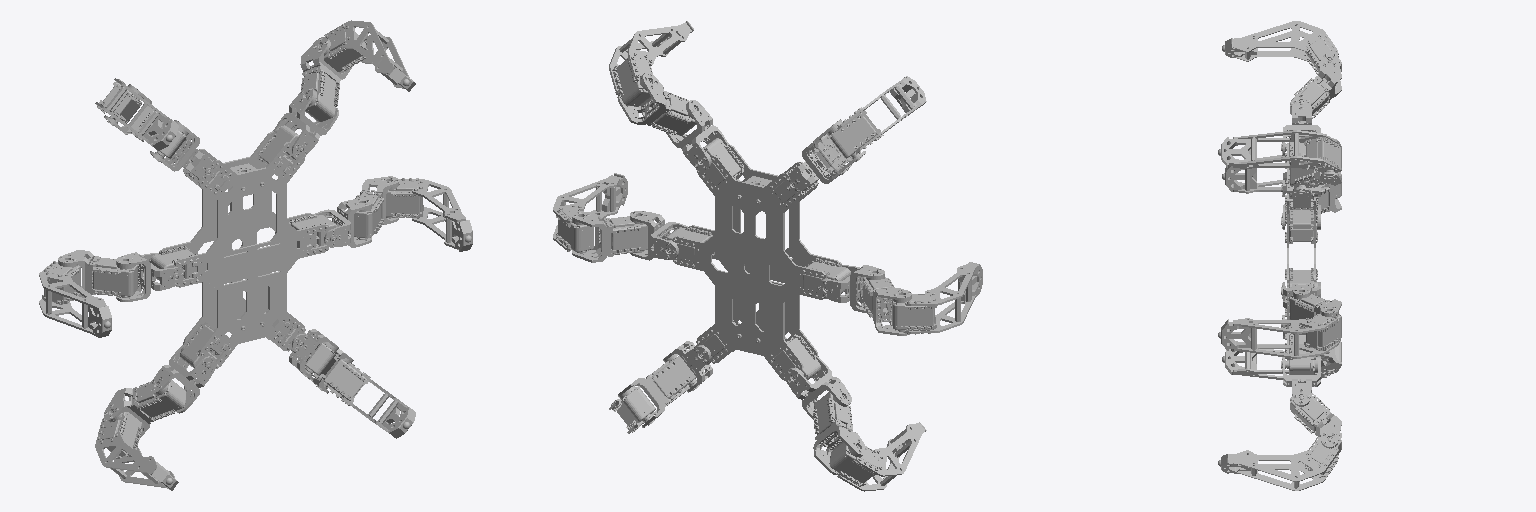
--- Render facts (derived) ---
Views: 3 orthographic renders of the robot side by side, from view 1: azimuth 30°, elevation 25°; view 2: azimuth 150°, elevation 25°; view 3: azimuth 270°, elevation 25°.
Robot: ASSY_phantom_urdf — 19 links, 18 joints (18 revolute); root link torso; default pose: every joint at zero.
Visible links, largest first — view 1: torso, LM_foot, LF_foot, RB_foot, RM_foot, LB_foot, RB_calf, RF_foot, RM_calf, LF_calf, RB_thigh, LF_thigh (+7 smaller); view 2: torso, RM_foot, LF_foot, RB_foot, LM_foot, RF_foot, LM_calf, LF_calf, RB_calf, LB_calf, LF_thigh, RB_thigh (+7 smaller); view 3: LM_foot, LF_foot, LB_foot, torso, RF_foot, RF_calf, LB_calf, RB_foot, RM_foot, LM_calf, LB_thigh, RF_thigh (+2 smaller).
Boxes of the visible links, x1,y1,x2,y2 form: torso: (150,125,337,368); LM_foot: (386,178,472,251); LF_foot: (324,20,415,91); RB_foot: (95,412,178,490); RM_foot: (39,261,111,337); LB_foot: (324,359,415,438); RB_calf: (104,380,185,437); RF_foot: (95,78,178,150); RM_calf: (58,250,137,300); LF_calf: (300,37,352,121); RB_thigh: (149,345,216,413); LF_thigh: (273,87,338,158); torso: (664,138,850,380); RM_foot: (892,262,982,334); LF_foot: (609,21,693,106); RB_foot: (830,422,926,491); LM_foot: (553,173,627,251); RF_foot: (829,76,926,158); LM_calf: (572,212,647,262); LF_calf: (617,72,696,135); RB_calf: (813,392,866,474); LB_calf: (618,355,696,427); LF_thigh: (666,100,728,170); RB_thigh: (785,357,851,419); LM_foot: (1218,314,1341,358); LF_foot: (1218,130,1341,172); LB_foot: (1218,437,1341,490); torso: (1285,137,1318,374); RF_foot: (1222,21,1341,80); RF_calf: (1290,52,1341,121); LB_calf: (1290,393,1341,448); RB_foot: (1222,341,1341,379); RM_foot: (1222,155,1341,198); LM_calf: (1290,294,1341,344); LB_thigh: (1281,356,1320,414); RF_thigh: (1281,94,1320,155).
Bounding box of the posed robot: 0.5327 × 0.1562 × 0.5003 m (x, y, z).
Meshes: 19 distinct files referenced, 19 mesh visuals loaded (19 binary STL).

The robot description file, URDF, robot "ASSY_phantom_urdf":
<?xml version="1.0" encoding="utf-8"?>
<!-- This URDF was automatically created by SolidWorks to URDF Exporter! Originally created by Stephen Brawner ([email redacted]) 
     Commit Version: 1.6.0-4-g7f85cfe  Build Version: 1.6.7995.38578
     For more information, please see http://wiki.ros.org/sw_urdf_exporter -->
<robot
  name="ASSY_phantom_urdf">
  <link
    name="torso">
    <inertial>
      <origin
        xyz="0 0 0"
        rpy="0 0 0" />
      <mass
        value="0.73121" />
      <inertia
        ixx="0.0016575"
        ixy="2.7575E-16"
        ixz="-2.6251E-08"
        iyy="0.0022272"
        iyz="-1.4666E-10"
        izz="0.00063419" />
    </inertial>
    <visual>
      <origin
        xyz="0 0 0"
        rpy="0 0 0" />
      <geometry>
        <mesh
          filename="package://ASSY_phantom_urdf/meshes/torso.STL" />
      </geometry>
      <material
        name="">
        <color
          rgba="0.75294 0.75294 0.75294 1" />
      </material>
    </visual>
    <collision>
      <origin
        xyz="0 0 0"
        rpy="0 0 0" />
      <geometry>
        <mesh
          filename="package://ASSY_phantom_urdf/meshes/torso.STL" />
      </geometry>
    </collision>
  </link>
  <link
    name="LF_thigh">
    <inertial>
      <origin
        xyz="-0.0189187135333139 0.000478712531283565 -0.0260043189660493"
        rpy="0 0 0" />
      <mass
        value="0.0376750978794187" />
      <inertia
        ixx="1.0382676450319E-05"
        ixy="-4.82870833005025E-12"
        ixz="2.19742306492425E-10"
        iyy="1.03826762029704E-05"
        iyz="2.07177635226539E-10"
        izz="1.33200924059604E-05" />
    </inertial>
    <visual>
      <origin
        xyz="0 0 0"
        rpy="0 0 0" />
      <geometry>
        <mesh
          filename="package://ASSY_phantom_urdf/meshes/LF_thigh.STL" />
      </geometry>
      <material
        name="">
        <color
          rgba="0.752941176470588 0.752941176470588 0.752941176470588 1" />
      </material>
    </visual>
    <collision>
      <origin
        xyz="0 0 0"
        rpy="0 0 0" />
      <geometry>
        <mesh
          filename="package://ASSY_phantom_urdf/meshes/LF_thigh.STL" />
      </geometry>
    </collision>
  </link>
  <joint
    name="LF1"
    type="revolute">
    <origin
      xyz="0.06091 0 0.12191"
      rpy="2.3562 0 -1.5708" />
    <parent
      link="torso" />
    <child
      link="LF_thigh" />
    <axis
      xyz="1 0 0" />
    <limit
      lower="-2.62"
      upper="2.62"
      effort="1.5"
      velocity="0" />
  </joint>
  <link
    name="LF_calf">
    <inertial>
      <origin
        xyz="0.00118838114257201 -0.0257707005151322 -0.000595468071498656"
        rpy="0 0 0" />
      <mass
        value="0.0806793259499741" />
      <inertia
        ixx="2.3728135432093E-05"
        ixy="6.91387857203295E-07"
        ixz="-1.86884977607436E-09"
        iyy="1.767780563337E-05"
        iyz="-2.42613365109201E-07"
        izz="1.65430649290008E-05" />
    </inertial>
    <visual>
      <origin
        xyz="0 0 0"
        rpy="0 0 0" />
      <geometry>
        <mesh
          filename="package://ASSY_phantom_urdf/meshes/LF_calf.STL" />
      </geometry>
      <material
        name="">
        <color
          rgba="0.752941176470588 0.752941176470588 0.752941176470588 1" />
      </material>
    </visual>
    <collision>
      <origin
        xyz="0 0 0"
        rpy="0 0 0" />
      <geometry>
        <mesh
          filename="package://ASSY_phantom_urdf/meshes/LF_calf.STL" />
      </geometry>
    </collision>
  </link>
  <joint
    name="LF2"
    type="revolute">
    <origin
      xyz="-0.01844 0 -0.052"
      rpy="1.5708 0.7854 0" />
    <parent
      link="LF_thigh" />
    <child
      link="LF_calf" />
    <axis
      xyz="0 0 1" />
    <limit
      lower="-2.62"
      upper="2.62"
      effort="1.5"
      velocity="0" />

  </joint>
  <link
    name="LF_foot">
    <inertial>
      <origin
        xyz="0.0260368144864791 -0.040459778839153 -0.000363415150998886"
        rpy="0 0 0" />
      <mass
        value="0.103482656813031" />
      <inertia
        ixx="2.77294582675777E-05"
        ixy="1.34850249812195E-05"
        ixz="-1.89513292990375E-09"
        iyy="3.65156461628875E-05"
        iyz="-2.42568251679861E-07"
        izz="4.94335793743486E-05" />
    </inertial>
    <visual>
      <origin
        xyz="0 0 0"
        rpy="0 0 0" />
      <geometry>
        <mesh
          filename="package://ASSY_phantom_urdf/meshes/LF_foot.STL" />
      </geometry>
      <material
        name="">
        <color
          rgba="0.752941176470588 0.752941176470588 0.752941176470588 1" />
      </material>
    </visual>
    <collision>
      <origin
        xyz="0 0 0"
        rpy="0 0 0" />
      <geometry>
        <mesh
          filename="package://ASSY_phantom_urdf/meshes/LF_foot.STL" />
      </geometry>
    </collision>
  </link>
  <joint
    name="LF3"
    type="revolute">
    <origin
      xyz="0.014589 -0.06443 0"
      rpy="0 0 1.3658" />
    <parent
      link="LF_calf" />
    <child
      link="LF_foot" />
    <axis
      xyz="0 0 1" />
    <limit
      lower="-2.62"
      upper="2.62"
      effort="1.5"
      velocity="0" />

  </joint>
  <link
    name="LM_thigh">
    <inertial>
      <origin
        xyz="-0.0189187144776559 0.000478714468876692 -0.0260043724674276"
        rpy="0 0 0" />
      <mass
        value="0.0376751009203242" />
      <inertia
        ixx="1.03826695315805E-05"
        ixy="-4.98915057940462E-12"
        ixz="2.12172123273922E-10"
        iyy="1.03826695315805E-05"
        iyz="2.12171092886595E-10"
        izz="1.33200927078181E-05" />
    </inertial>
    <visual>
      <origin
        xyz="0 0 0"
        rpy="0 0 0" />
      <geometry>
        <mesh
          filename="package://ASSY_phantom_urdf/meshes/LM_thigh.STL" />
      </geometry>
      <material
        name="">
        <color
          rgba="0.752941176470588 0.752941176470588 0.752941176470588 1" />
      </material>
    </visual>
    <collision>
      <origin
        xyz="0 0 0"
        rpy="0 0 0" />
      <geometry>
        <mesh
          filename="package://ASSY_phantom_urdf/meshes/LM_thigh.STL" />
      </geometry>
    </collision>
  </link>
  <joint
    name="LM1"
    type="revolute">
    <origin
      xyz="0.1035 0 0"
      rpy="1.5708 0 -1.5708" />
    <parent
      link="torso" />
    <child
      link="LM_thigh" />
    <axis
      xyz="1 0 0" />
    <limit
      lower="-2.62"
      upper="2.62"
      effort="1.5"
      velocity="0" />

  </joint>
  <link
    name="LM_calf">
    <inertial>
      <origin
        xyz="0.00118838484900423 -0.0257707055627347 -0.000595469226839227"
        rpy="0 0 0" />
      <mass
        value="0.0806793241220326" />
      <inertia
        ixx="2.3728141096192E-05"
        ixy="6.91392590582623E-07"
        ixz="-1.869977571747E-09"
        iyy="1.76778095623174E-05"
        iyz="-2.42612120369138E-07"
        izz="1.65430747191068E-05" />
    </inertial>
    <visual>
      <origin
        xyz="0 0 0"
        rpy="0 0 0" />
      <geometry>
        <mesh
          filename="package://ASSY_phantom_urdf/meshes/LM_calf.STL" />
      </geometry>
      <material
        name="">
        <color
          rgba="0.752941176470588 0.752941176470588 0.752941176470588 1" />
      </material>
    </visual>
    <collision>
      <origin
        xyz="0 0 0"
        rpy="0 0 0" />
      <geometry>
        <mesh
          filename="package://ASSY_phantom_urdf/meshes/LM_calf.STL" />
      </geometry>
    </collision>
  </link>
  <joint
    name="LM2"
    type="revolute">
    <origin
      xyz="-0.01844 0 -0.052"
      rpy="1.5708 0.7854 0" />
    <parent
      link="LM_thigh" />
    <child
      link="LM_calf" />
    <axis
      xyz="0 0 1" />
    <limit
      lower="-2.62"
      upper="2.62"
      effort="1.5"
      velocity="0" />


  </joint>
  <link
    name="LM_foot">
    <inertial>
      <origin
        xyz="0.0260368291642085 -0.0404597875260156 -0.000363415268275501"
        rpy="0 0 0" />
      <mass
        value="0.103482638943844" />
      <inertia
        ixx="2.7729457807986E-05"
        ixy="1.34850249887826E-05"
        ixz="-1.89511305525402E-09"
        iyy="3.65156462713776E-05"
        iyz="-2.42568236083735E-07"
        izz="4.9433579108479E-05" />
    </inertial>
    <visual>
      <origin
        xyz="0 0 0"
        rpy="0 0 0" />
      <geometry>
        <mesh
          filename="package://ASSY_phantom_urdf/meshes/LM_foot.STL" />
      </geometry>
      <material
        name="">
        <color
          rgba="0.752941176470588 0.752941176470588 0.752941176470588 1" />
      </material>
    </visual>
    <collision>
      <origin
        xyz="0 0 0"
        rpy="0 0 0" />
      <geometry>
        <mesh
          filename="package://ASSY_phantom_urdf/meshes/LM_foot.STL" />
      </geometry>
    </collision>
  </link>
  <joint
    name="LM3"
    type="revolute">
    <origin
      xyz="0.014589 -0.06443 0"
      rpy="0 0 1.3658" />
    <parent
      link="LM_calf" />
    <child
      link="LM_foot" />
    <axis
      xyz="0 0 1" />
    <limit
      lower="-2.62"
      upper="2.62"
      effort="1.5"
      velocity="0" />


  </joint>
  <link
    name="LB_thigh">
    <inertial>
      <origin
        xyz="-0.0189187135333139 0.00047871253128369 -0.0260043189660493"
        rpy="0 0 0" />
      <mass
        value="0.0376750978794186" />
      <inertia
        ixx="1.0382676450319E-05"
        ixy="-4.82870833147012E-12"
        ixz="2.19742306490418E-10"
        iyy="1.03826762029704E-05"
        iyz="2.07177635226115E-10"
        izz="1.33200924059604E-05" />
    </inertial>
    <visual>
      <origin
        xyz="0 0 0"
        rpy="0 0 0" />
      <geometry>
        <mesh
          filename="package://ASSY_phantom_urdf/meshes/LB_thigh.STL" />
      </geometry>
      <material
        name="">
        <color
          rgba="0.752941176470588 0.752941176470588 0.752941176470588 1" />
      </material>
    </visual>
    <collision>
      <origin
        xyz="0 0 0"
        rpy="0 0 0" />
      <geometry>
        <mesh
          filename="package://ASSY_phantom_urdf/meshes/LB_thigh.STL" />
      </geometry>
    </collision>
  </link>
  <joint
    name="LB1"
    type="revolute">
    <origin
      xyz="0.06091 0 -0.12191"
      rpy="0.7854 0 -1.5708" />
    <parent
      link="torso" />
    <child
      link="LB_thigh" />
    <axis
      xyz="1 0 0" />
    <limit
      lower="-2.62"
      upper="2.62"
      effort="1.5"
      velocity="0" />


  </joint>
  <link
    name="LB_calf">
    <inertial>
      <origin
        xyz="0.00118838114257189 -0.0257707005151321 -0.00059546807149885"
        rpy="0 0 0" />
      <mass
        value="0.080679325949974" />
      <inertia
        ixx="2.37281354320929E-05"
        ixy="6.91387857203288E-07"
        ixz="-1.86884977607478E-09"
        iyy="1.76778056333699E-05"
        iyz="-2.4261336510919E-07"
        izz="1.65430649290007E-05" />
    </inertial>
    <visual>
      <origin
        xyz="0 0 0"
        rpy="0 0 0" />
      <geometry>
        <mesh
          filename="package://ASSY_phantom_urdf/meshes/LB_calf.STL" />
      </geometry>
      <material
        name="">
        <color
          rgba="0.752941176470588 0.752941176470588 0.752941176470588 1" />
      </material>
    </visual>
    <collision>
      <origin
        xyz="0 0 0"
        rpy="0 0 0" />
      <geometry>
        <mesh
          filename="package://ASSY_phantom_urdf/meshes/LB_calf.STL" />
      </geometry>
    </collision>
  </link>
  <joint
    name="LB2"
    type="revolute">
    <origin
      xyz="-0.01844 0 -0.052"
      rpy="1.5708 0.7854 0" />
    <parent
      link="LB_thigh" />
    <child
      link="LB_calf" />
    <axis
      xyz="0 0 1" />
    <limit
      lower="-2.62"
      upper="2.62"
      effort="1.5"
      velocity="0" />


  </joint>
  <link
    name="LB_foot">
    <inertial>
      <origin
        xyz="0.0260368144864792 -0.0404597788391529 -0.000363415150998886"
        rpy="0 0 0" />
      <mass
        value="0.103482656813031" />
      <inertia
        ixx="2.77294582675776E-05"
        ixy="1.34850249812195E-05"
        ixz="-1.89513292987579E-09"
        iyy="3.65156461628875E-05"
        iyz="-2.42568251679898E-07"
        izz="4.94335793743485E-05" />
    </inertial>
    <visual>
      <origin
        xyz="0 0 0"
        rpy="0 0 0" />
      <geometry>
        <mesh
          filename="package://ASSY_phantom_urdf/meshes/LB_foot.STL" />
      </geometry>
      <material
        name="">
        <color
          rgba="0.752941176470588 0.752941176470588 0.752941176470588 1" />
      </material>
    </visual>
    <collision>
      <origin
        xyz="0 0 0"
        rpy="0 0 0" />
      <geometry>
        <mesh
          filename="package://ASSY_phantom_urdf/meshes/LB_foot.STL" />
      </geometry>
    </collision>
  </link>
  <joint
    name="LB3"
    type="revolute">
    <origin
      xyz="0.014589 -0.06443 0"
      rpy="0 0 1.3658" />
    <parent
      link="LB_calf" />
    <child
      link="LB_foot" />
    <axis
      xyz="0 0 1" />
    <limit
      lower="-2.62"
      upper="2.62"
      effort="1.5"
      velocity="0" />


  </joint>
  <link
    name="RF_thigh">
    <inertial>
      <origin
        xyz="-0.0189188020479903 0.000478800845980093 0.0260043353596264"
        rpy="0 0 0" />
      <mass
        value="0.0376758208259914" />
      <inertia
        ixx="1.03828764673456E-05"
        ixy="-3.25408417106138E-11"
        ixz="-3.46294905024973E-10"
        iyy="1.03828761205044E-05"
        iyz="-3.38463493359526E-10"
        izz="1.33203665739127E-05" />
    </inertial>
    <visual>
      <origin
        xyz="0 0 0"
        rpy="0 0 0" />
      <geometry>
        <mesh
          filename="package://ASSY_phantom_urdf/meshes/RF_thigh.STL" />
      </geometry>
      <material
        name="">
        <color
          rgba="0.752941176470588 0.752941176470588 0.752941176470588 1" />
      </material>
    </visual>
    <collision>
      <origin
        xyz="0 0 0"
        rpy="0 0 0" />
      <geometry>
        <mesh
          filename="package://ASSY_phantom_urdf/meshes/RF_thigh.STL" />
      </geometry>
    </collision>
  </link>
  <joint
    name="RF1"
    type="revolute">
    <origin
      xyz="-0.06091 0 0.12191"
      rpy="0.7854 0 -1.5708" />
    <parent
      link="torso" />
    <child
      link="RF_thigh" />
    <axis
      xyz="1 0 0" />
    <limit
      lower="-2.62"
      upper="2.62"
      effort="1.5"
      velocity="0" />


  </joint>
  <link
    name="RF_calf">
    <inertial>
      <origin
        xyz="0.00118839448735411 -0.0257708306895506 0.000595485131191148"
        rpy="0 0 0" />
      <mass
        value="0.0806797008140726" />
      <inertia
        ixx="2.37283128266096E-05"
        ixy="6.91404529752462E-07"
        ixz="1.80297348274294E-09"
        iyy="1.76779102521873E-05"
        iyz="2.42634869978194E-07"
        izz="1.65431060541753E-05" />
    </inertial>
    <visual>
      <origin
        xyz="0 0 0"
        rpy="0 0 0" />
      <geometry>
        <mesh
          filename="package://ASSY_phantom_urdf/meshes/RF_calf.STL" />
      </geometry>
      <material
        name="">
        <color
          rgba="0.752941176470588 0.752941176470588 0.752941176470588 1" />
      </material>
    </visual>
    <collision>
      <origin
        xyz="0 0 0"
        rpy="0 0 0" />
      <geometry>
        <mesh
          filename="package://ASSY_phantom_urdf/meshes/RF_calf.STL" />
      </geometry>
    </collision>
  </link>
  <joint
    name="RF2"
    type="revolute">
    <origin
      xyz="-0.01844 0 0.052"
      rpy="-1.5708 -0.7854 0" />
    <parent
      link="RF_thigh" />
    <child
      link="RF_calf" />
    <axis
      xyz="0 0 1" />
    <limit
      lower="-2.62"
      upper="2.62"
      effort="1.5"
      velocity="0" />


  </joint>
  <link
    name="RF_foot">
    <inertial>
      <origin
        xyz="0.0251523878039745 -0.0399190519547551 0.000363401002625788"
        rpy="0 0 0" />
      <mass
        value="0.10348275962247" />
      <inertia
        ixx="2.77294725192849E-05"
        ixy="1.34850252775453E-05"
        ixz="1.89623156593185E-09"
        iyy="3.65156682580468E-05"
        iyz="2.42562482314532E-07"
        izz="4.94335677074542E-05" />
    </inertial>
    <visual>
      <origin
        xyz="0 0 0"
        rpy="0 0 0" />
      <geometry>
        <mesh
          filename="package://ASSY_phantom_urdf/meshes/RF_foot.STL" />
      </geometry>
      <material
        name="">
        <color
          rgba="0.752941176470588 0.752941176470588 0.752941176470588 1" />
      </material>
    </visual>
    <collision>
      <origin
        xyz="0 0 0"
        rpy="0 0 0" />
      <geometry>
        <mesh
          filename="package://ASSY_phantom_urdf/meshes/RF_foot.STL" />
      </geometry>
    </collision>
  </link>
  <joint
    name="RF3"
    type="revolute">
    <origin
      xyz="0.014589 -0.06443 0"
      rpy="0 0 1.3658" />
    <parent
      link="RF_calf" />
    <child
      link="RF_foot" />
    <axis
      xyz="0 0 1" />
    <limit
      lower="-2.62"
      upper="2.62"
      effort="1.5"
      velocity="0" />


  </joint>
  <link
    name="RM_thigh">
    <inertial>
      <origin
        xyz="-0.0189188023390825 0.000478802347846601 0.0260043723573318"
        rpy="0 0 0" />
      <mass
        value="0.0376758228348441" />
      <inertia
        ixx="1.03828709694775E-05"
        ixy="-3.26232367538412E-11"
        ixz="-3.41920389663727E-10"
        iyy="1.03828709694775E-05"
        iyz="-3.41921417827784E-10"
        izz="1.33203669609511E-05" />
    </inertial>
    <visual>
      <origin
        xyz="0 0 0"
        rpy="0 0 0" />
      <geometry>
        <mesh
          filename="package://ASSY_phantom_urdf/meshes/RM_thigh.STL" />
      </geometry>
      <material
        name="">
        <color
          rgba="0.752941176470588 0.752941176470588 0.752941176470588 1" />
      </material>
    </visual>
    <collision>
      <origin
        xyz="0 0 0"
        rpy="0 0 0" />
      <geometry>
        <mesh
          filename="package://ASSY_phantom_urdf/meshes/RM_thigh.STL" />
      </geometry>
    </collision>
  </link>
  <joint
    name="RM1"
    type="revolute">
    <origin
      xyz="-0.1035 0 0"
      rpy="1.5708 0 -1.5708" />
    <parent
      link="torso" />
    <child
      link="RM_thigh" />
    <axis
      xyz="1 0 0" />
    <limit
      lower="-2.62"
      upper="2.62"
      effort="1.5"
      velocity="0" />


  </joint>
  <link
    name="RM_calf">
    <inertial>
      <origin
        xyz="0.001188397187932 -0.0257708336460533 0.000595485752764332"
        rpy="0 0 0" />
      <mass
        value="0.0806797009667837" />
      <inertia
        ixx="2.37283162712528E-05"
        ixy="6.91408117149425E-07"
        ixz="1.80488388072659E-09"
        iyy="1.76779140809598E-05"
        iyz="2.42632916986097E-07"
        izz="1.65431132788042E-05" />
    </inertial>
    <visual>
      <origin
        xyz="0 0 0"
        rpy="0 0 0" />
      <geometry>
        <mesh
          filename="package://ASSY_phantom_urdf/meshes/RM_calf.STL" />
      </geometry>
      <material
        name="">
        <color
          rgba="0.752941176470588 0.752941176470588 0.752941176470588 1" />
      </material>
    </visual>
    <collision>
      <origin
        xyz="0 0 0"
        rpy="0 0 0" />
      <geometry>
        <mesh
          filename="package://ASSY_phantom_urdf/meshes/RM_calf.STL" />
      </geometry>
    </collision>
  </link>
  <joint
    name="RM2"
    type="revolute">
    <origin
      xyz="-0.01844 0 0.052"
      rpy="-1.5708 -0.7854 0" />
    <parent
      link="RM_thigh" />
    <child
      link="RM_calf" />
    <axis
      xyz="0 0 1" />
    <limit
      lower="-2.62"
      upper="2.62"
      effort="1.5"
      velocity="0" />


  </joint>
  <link
    name="RM_foot">
    <inertial>
      <origin
        xyz="0.0251524010551904 -0.039919059521808 0.000363400892952541"
        rpy="0 0 0" />
      <mass
        value="0.103482743153361" />
      <inertia
        ixx="2.77294720723584E-05"
        ixy="1.34850252865789E-05"
        ixz="1.89621447560202E-09"
        iyy="3.65156684057796E-05"
        iyz="2.42562450521362E-07"
        izz="4.94335674049255E-05" />
    </inertial>
    <visual>
      <origin
        xyz="0 0 0"
        rpy="0 0 0" />
      <geometry>
        <mesh
          filename="package://ASSY_phantom_urdf/meshes/RM_foot.STL" />
      </geometry>
      <material
        name="">
        <color
          rgba="0.752941176470588 0.752941176470588 0.752941176470588 1" />
      </material>
    </visual>
    <collision>
      <origin
        xyz="0 0 0"
        rpy="0 0 0" />
      <geometry>
        <mesh
          filename="package://ASSY_phantom_urdf/meshes/RM_foot.STL" />
      </geometry>
    </collision>
  </link>
  <joint
    name="RM3"
    type="revolute">
    <origin
      xyz="0.014589 -0.06443 0"
      rpy="0 0 1.3658" />
    <parent
      link="RM_calf" />
    <child
      link="RM_foot" />
    <axis
      xyz="0 0 1" />
    <limit
      lower="-2.62"
      upper="2.62"
      effort="1.5"
      velocity="0" />


  </joint>
  <link
    name="RB_thigh">
    <inertial>
      <origin
        xyz="-0.0189188020479903 0.000478800845980204 0.0260043353596264"
        rpy="0 0 0" />
      <mass
        value="0.0376758208259914" />
      <inertia
        ixx="1.03828764673456E-05"
        ixy="-3.25408417113336E-11"
        ixz="-3.46294905019275E-10"
        iyy="1.03828761205044E-05"
        iyz="-3.38463493341739E-10"
        izz="1.33203665739127E-05" />
    </inertial>
    <visual>
      <origin
        xyz="0 0 0"
        rpy="0 0 0" />
      <geometry>
        <mesh
          filename="package://ASSY_phantom_urdf/meshes/RB_thigh.STL" />
      </geometry>
      <material
        name="">
        <color
          rgba="0.752941176470588 0.752941176470588 0.752941176470588 1" />
      </material>
    </visual>
    <collision>
      <origin
        xyz="0 0 0"
        rpy="0 0 0" />
      <geometry>
        <mesh
          filename="package://ASSY_phantom_urdf/meshes/RB_thigh.STL" />
      </geometry>
    </collision>
  </link>
  <joint
    name="RB1"
    type="revolute">
    <origin
      xyz="-0.06091 0 -0.12191"
      rpy="2.3562 0 -1.5708" />
    <parent
      link="torso" />
    <child
      link="RB_thigh" />
    <axis
      xyz="1 0 0" />
    <limit
      lower="-2.62"
      upper="2.62"
      effort="1.5"
      velocity="0" />


  </joint>
  <link
    name="RB_calf">
    <inertial>
      <origin
        xyz="0.00118839448735418 -0.0257708306895507 0.000595485131191037"
        rpy="0 0 0" />
      <mass
        value="0.0806797008140726" />
      <inertia
        ixx="2.37283128266096E-05"
        ixy="6.91404529752473E-07"
        ixz="1.80297348272981E-09"
        iyy="1.76779102521873E-05"
        iyz="2.42634869978198E-07"
        izz="1.65431060541753E-05" />
    </inertial>
    <visual>
      <origin
        xyz="0 0 0"
        rpy="0 0 0" />
      <geometry>
        <mesh
          filename="package://ASSY_phantom_urdf/meshes/RB_calf.STL" />
      </geometry>
      <material
        name="">
        <color
          rgba="0.752941176470588 0.752941176470588 0.752941176470588 1" />
      </material>
    </visual>
    <collision>
      <origin
        xyz="0 0 0"
        rpy="0 0 0" />
      <geometry>
        <mesh
          filename="package://ASSY_phantom_urdf/meshes/RB_calf.STL" />
      </geometry>
    </collision>
  </link>
  <joint
    name="RB2"
    type="revolute">
    <origin
      xyz="-0.01844 0 0.052"
      rpy="-1.5708 -0.7854 0" />
    <parent
      link="RB_thigh" />
    <child
      link="RB_calf" />
    <axis
      xyz="0 0 1" />
    <limit
      lower="-2.62"
      upper="2.62"
      effort="1.5"
      velocity="0" />


  </joint>
  <link
    name="RB_foot">
    <inertial>
      <origin
        xyz="0.0251523878039747 -0.0399190519547549 0.000363401002625885"
        rpy="0 0 0" />
      <mass
        value="0.103482759622469" />
      <inertia
        ixx="2.77294725192848E-05"
        ixy="1.34850252775453E-05"
        ixz="1.89623156589374E-09"
        iyy="3.65156682580467E-05"
        iyz="2.42562482314553E-07"
        izz="4.94335677074541E-05" />
    </inertial>
    <visual>
      <origin
        xyz="0 0 0"
        rpy="0 0 0" />
      <geometry>
        <mesh
          filename="package://ASSY_phantom_urdf/meshes/RB_foot.STL" />
      </geometry>
      <material
        name="">
        <color
          rgba="0.752941176470588 0.752941176470588 0.752941176470588 1" />
      </material>
    </visual>
    <collision>
      <origin
        xyz="0 0 0"
        rpy="0 0 0" />
      <geometry>
        <mesh
          filename="package://ASSY_phantom_urdf/meshes/RB_foot.STL" />
      </geometry>
    </collision>
  </link>
  <joint
    name="RB3"
    type="revolute">
    <origin
      xyz="0.014589 -0.06443 0"
      rpy="0 0 1.3658" />
    <parent
      link="RB_calf" />
    <child
      link="RB_foot" />
    <axis
      xyz="0 0 1" />
    <limit
      lower="-2.62"
      upper="2.62"
      effort="1.5"
      velocity="0" />
  </joint>
</robot>
